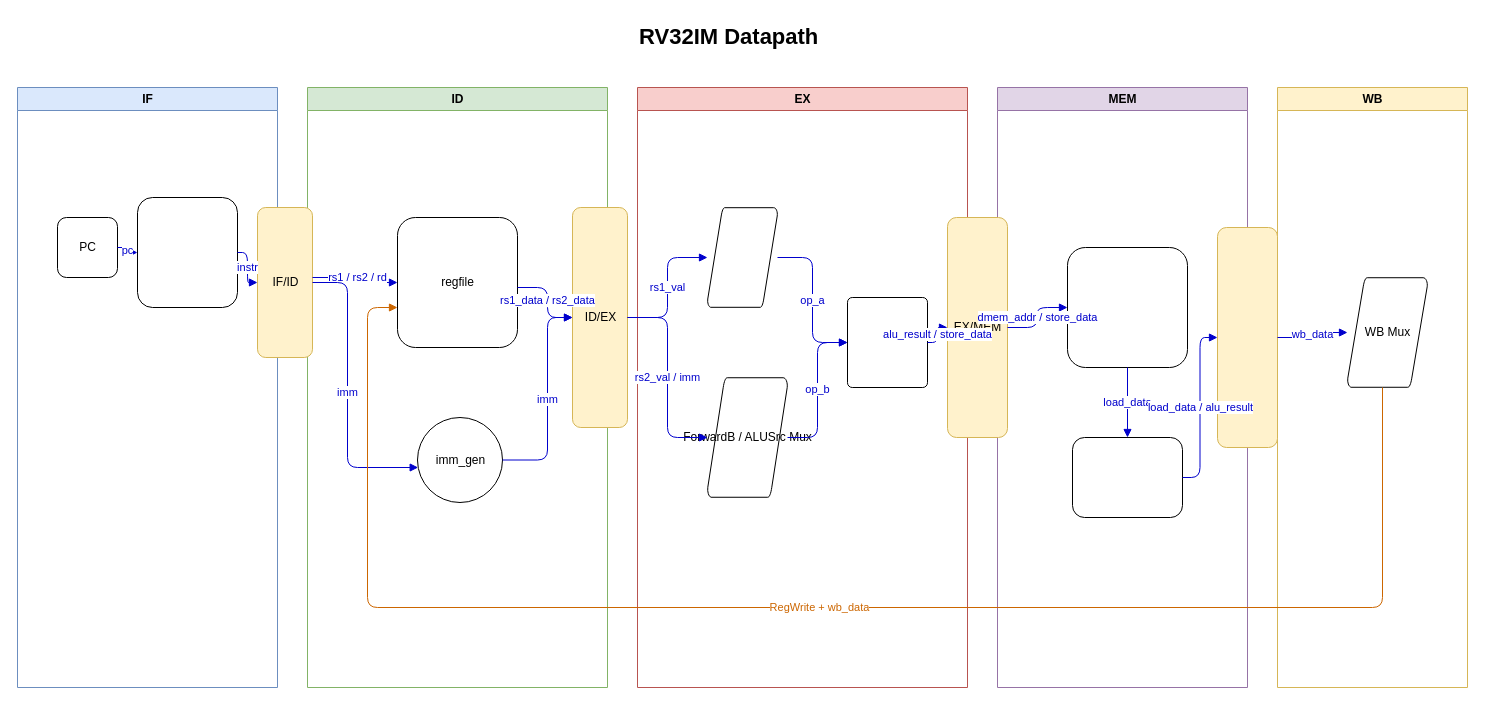
Image size: 1485x705. Some labels were removed from this diagram. Each missing label, with the centre of its shape:
"ALU" belongs at (887,342).
"Data Memory" belongs at (1127,307).
"ForwardA Mux" belongs at (742,257).
"Instruction Memory" belongs at (187,252).
"load/store align" belongs at (1127,477).
"MEM/WB" belongs at (1247,337).
